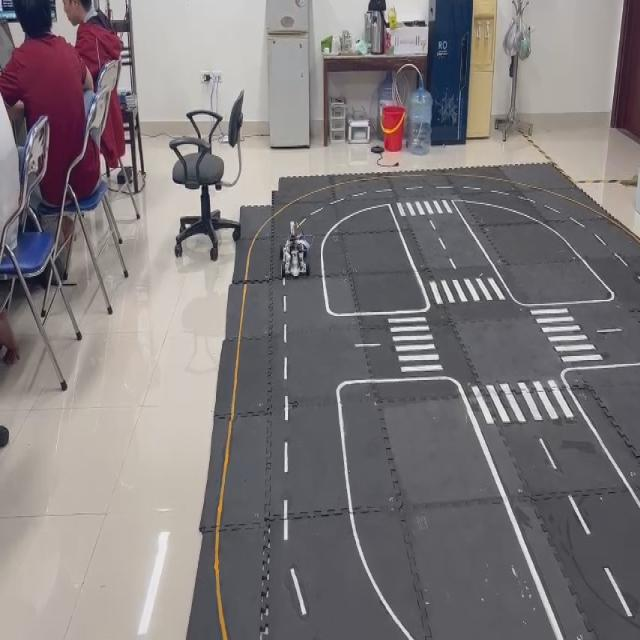SiCo-CAR: (279, 219, 310, 280)
